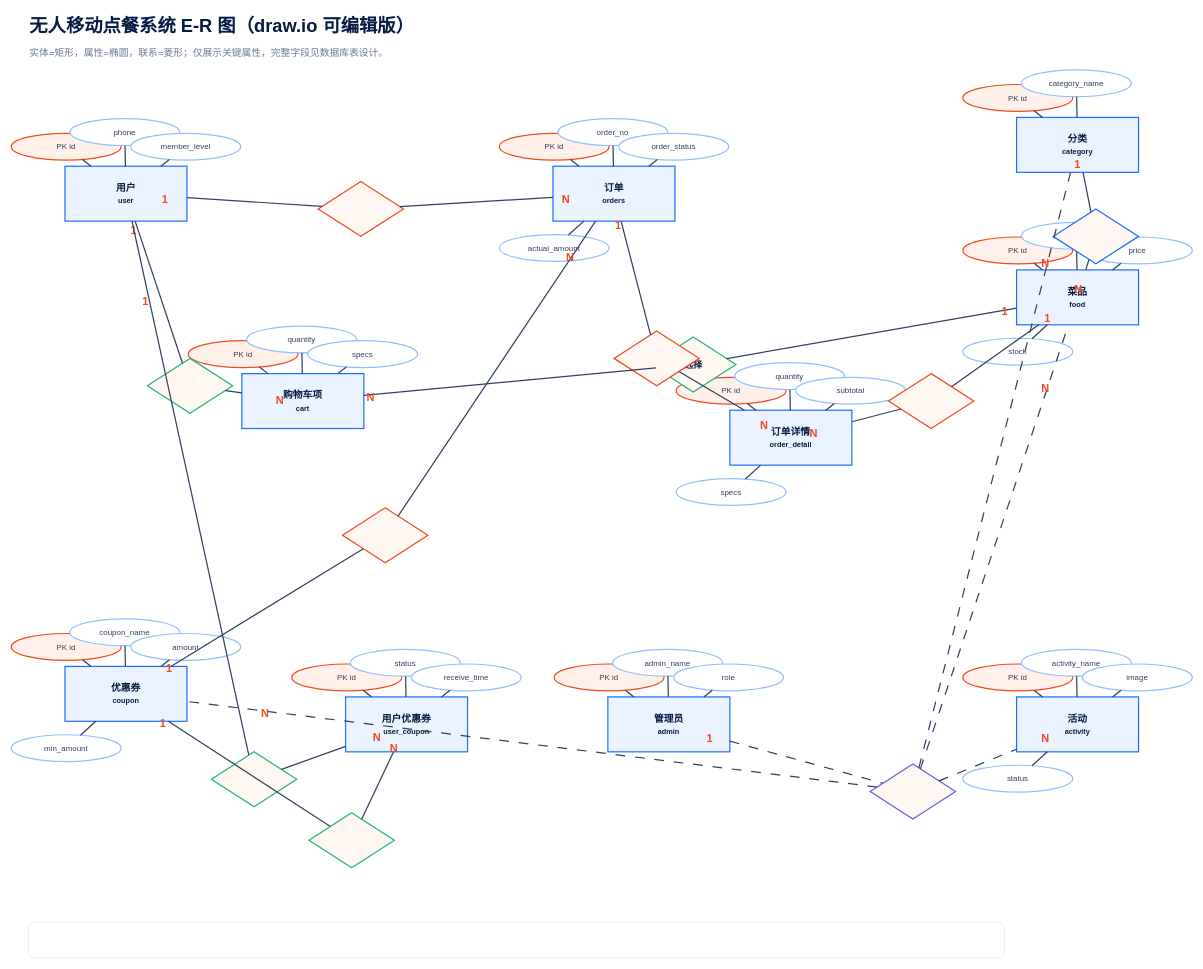
This 1203x969 diagram has some shape labels left out. The shapes that lost their labels are listed below. From the top down, each one's centre as x and y in pixels, then its label:
point 360,209: 下单
point 1095,236: 包含
point 656,358: 包含明细
point 189,385: 加入
point 931,401: 对应菜品
point 385,535: 使用
point 253,779: 领取
point 912,791: 维护
point 351,840: 对应
point 516,940: 说明：活动 activity 主要用于 Banner / 活动配置；管理员维护关系使用虚线表示，不代表数据库外键。
